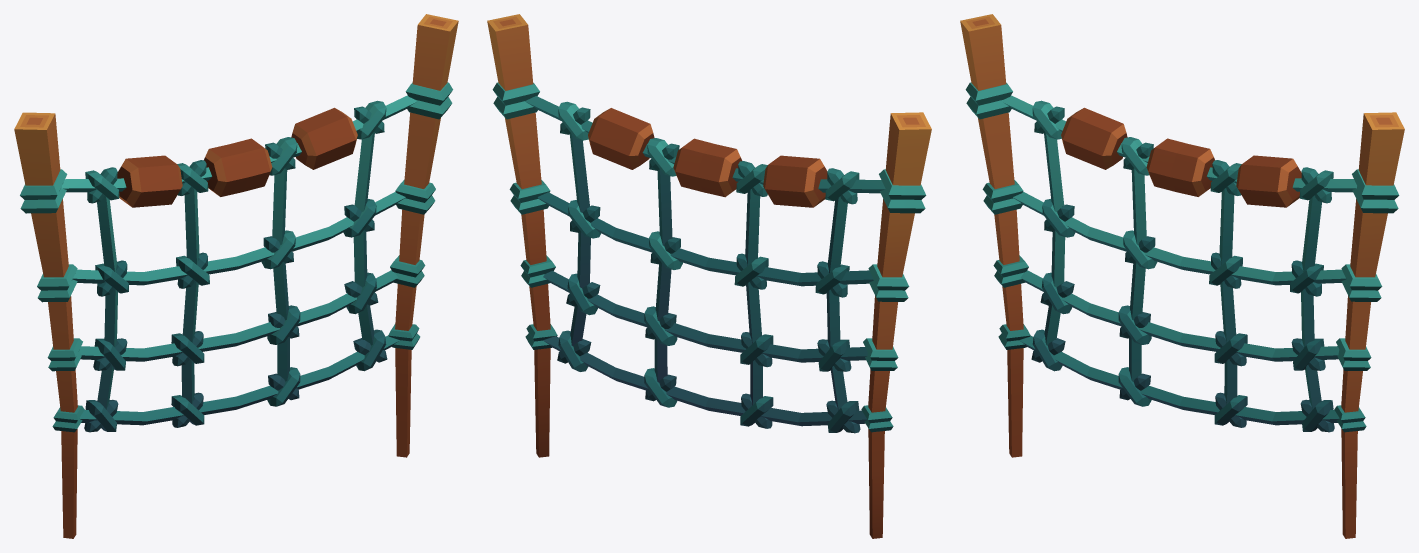
Rendered from net.glb.
3 views of the same model, side by side, from view 1: azimuth 30°, elevation 25°; view 2: azimuth 150°, elevation 25°; view 3: azimuth 330°, elevation 25° (orthographic).
Visible parts, largest first — view 1: net; view 2: net; view 3: net.
Boxes of the visible parts, left/top/right/bottom form: net: left=14, top=14, right=458, bottom=538; net: left=487, top=14, right=931, bottom=538; net: left=960, top=14, right=1404, bottom=538.
Size of the model in its own units: 1.61 by 1.48 by 0.1747.
Materials: 1 (1 with a texture image).
